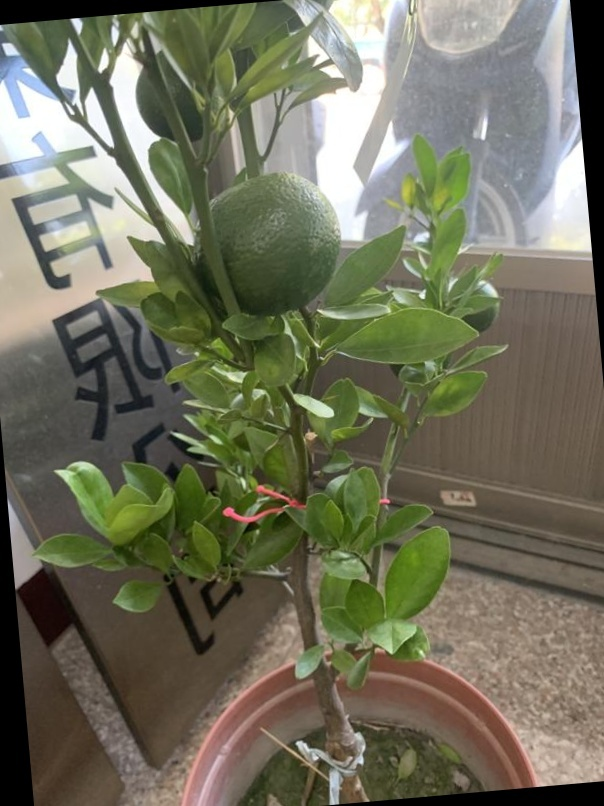Tangerine: (192, 178, 346, 308)
